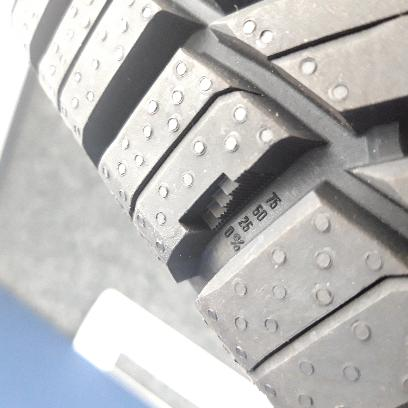temoin:100: (177, 167, 280, 235)
